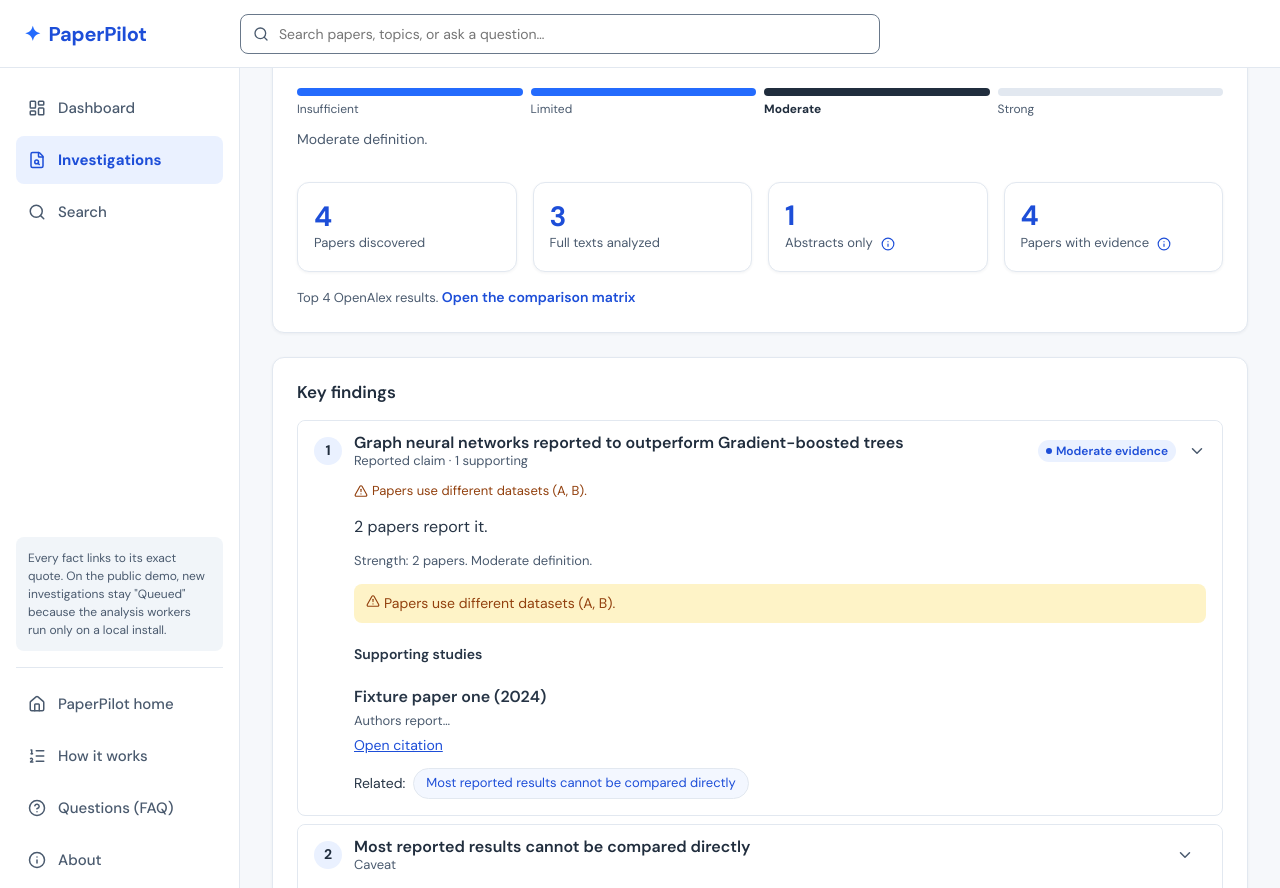
Test: ReportPage › expands a finding in place and keeps its caveat visible while collapsed
(page scrolled)
Click the button "Graph neural networks reported to outperform": [760, 451] box [298, 421, 1222, 481]
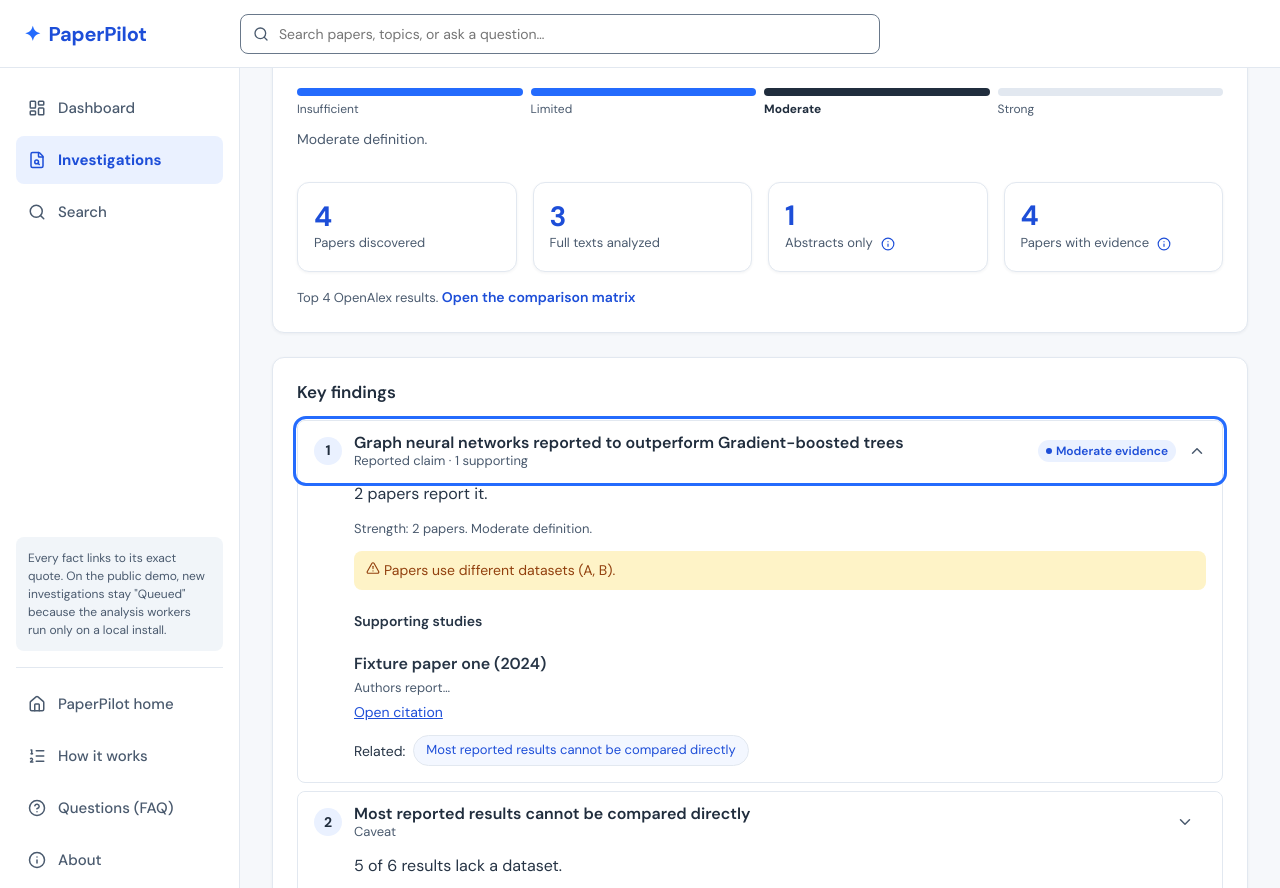
Expected: the text "2 papers report it." is shown, [354, 483, 488, 504]
Now the button "Graph neural networks reported to outperform" is expanded
Click the button "Graph neural networks reported to outperform": [760, 451] box [298, 421, 1222, 481]
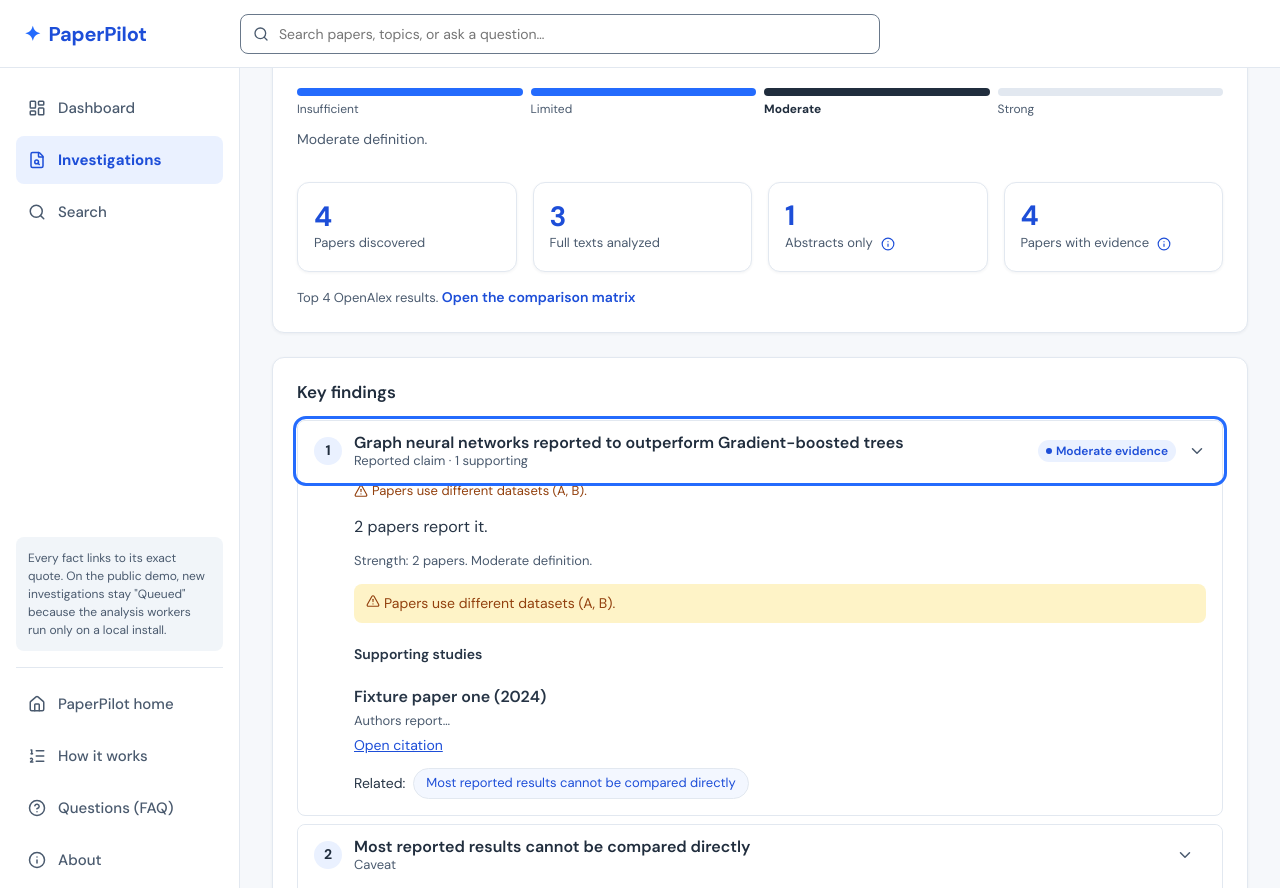
Now the button "Graph neural networks reported to outperform" is collapsed, box [298, 421, 1222, 481]
